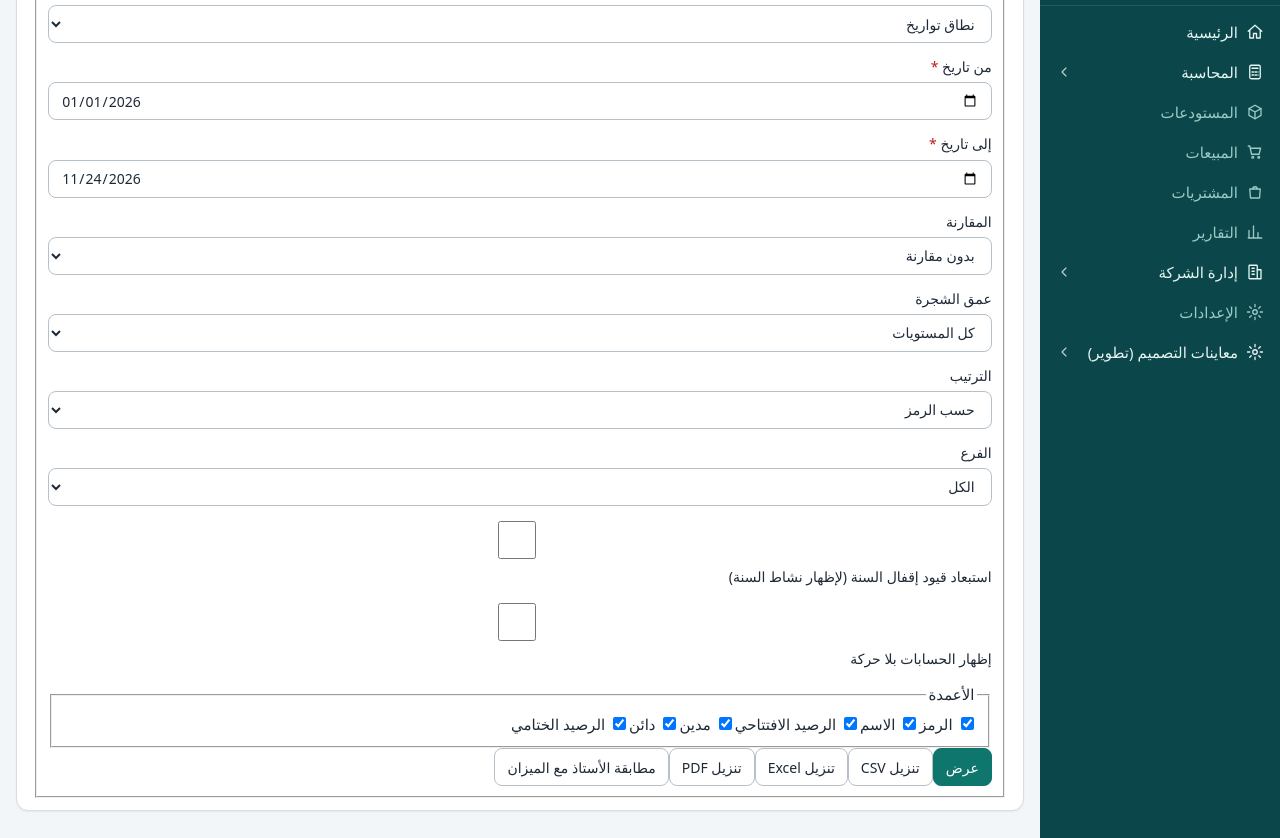
ledger reports: period, comparison, columns, exports, reconciliation and drill-down › shows the reconciliation checks with their status and lists the differences of a failing check
The width and height of the screenshot is (1280, 838).
(page scrolled)
Step 1. Click the button with test id "rep-reconcile" → [582, 767], box x1=494 y1=748 x2=669 y2=786
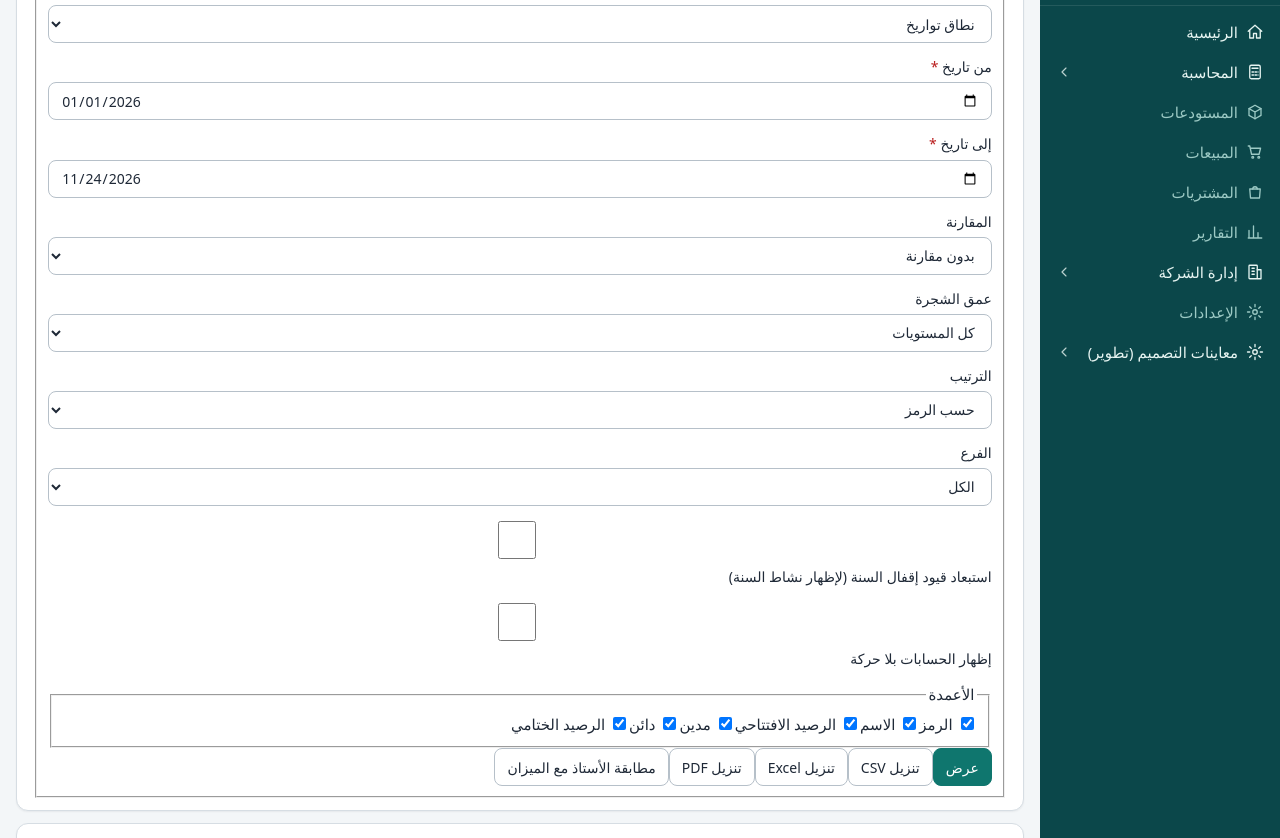
Step 2. Click the button with test id "rep-reconcile" → [582, 767], box x1=494 y1=748 x2=669 y2=786
(page scrolled)
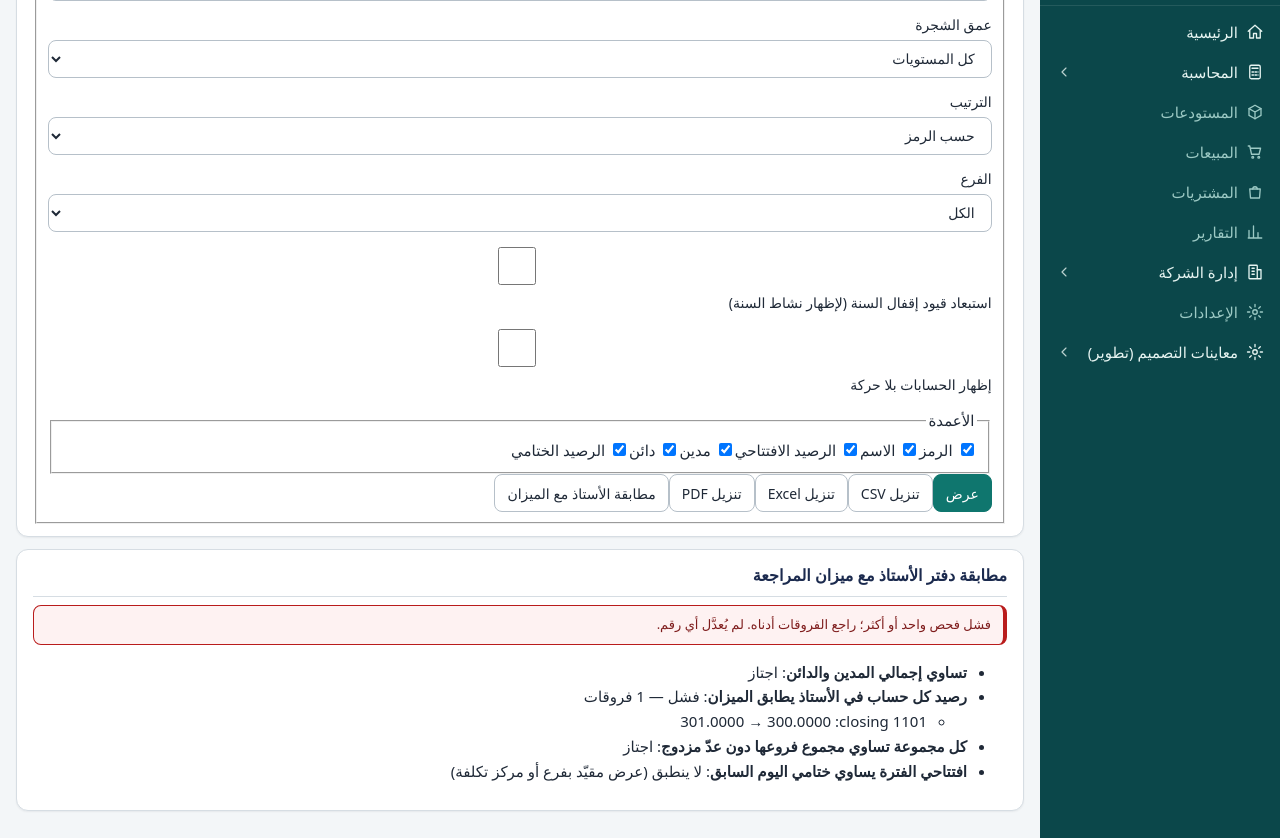
Check: the list item with test id "rep-rec-ledger_matches_trial_balance" shows "301.0000", box x1=680 y1=711 x2=744 y2=731
